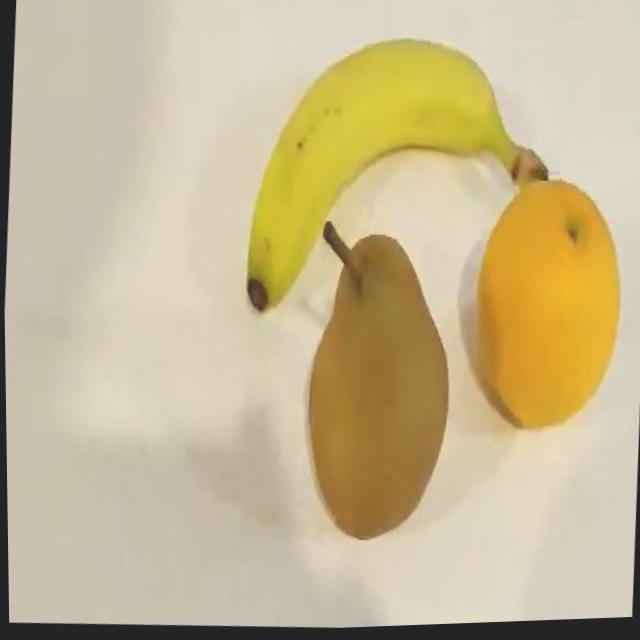Apple: (297, 220, 460, 551)
Banana: (241, 30, 557, 332)
Orange: (466, 178, 629, 442)
